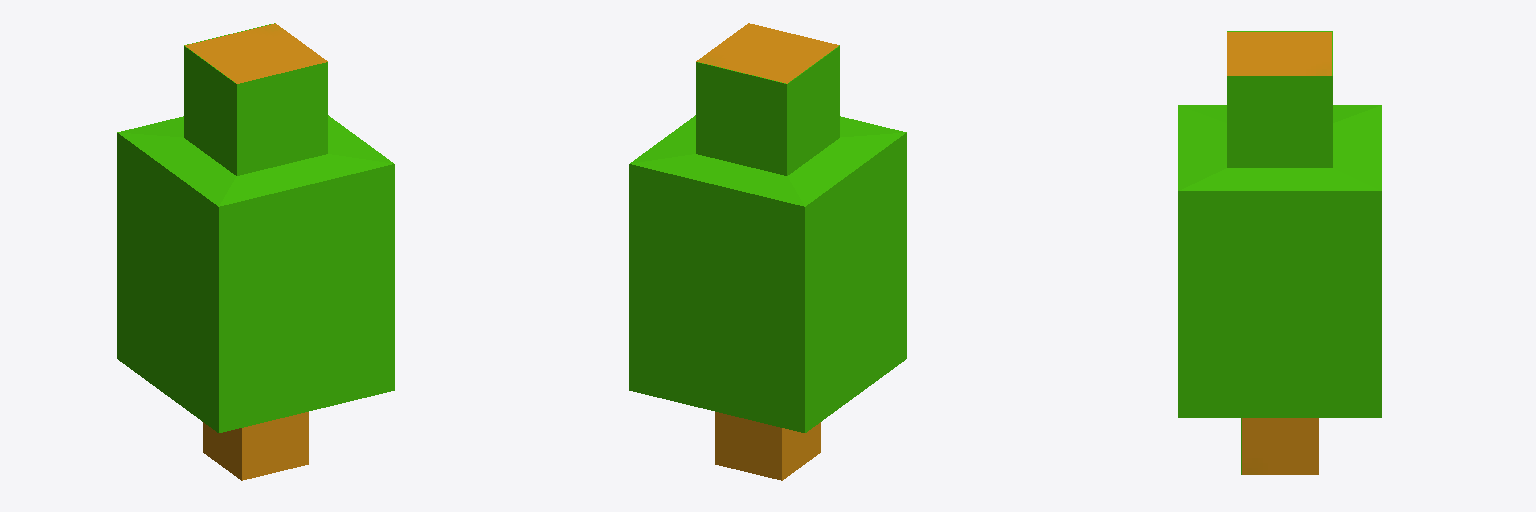
3 views of the same model, side by side, from view 1: azimuth 30°, elevation 25°; view 2: azimuth 150°, elevation 25°; view 3: azimuth 270°, elevation 25° (orthographic).
Visible parts, largest first — view 1: Cube; view 2: Cube; view 3: Cube.
Part boxes in pixels (bbox=[...]): Cube: bbox=[117, 23, 394, 480]; Cube: bbox=[629, 23, 906, 480]; Cube: bbox=[1178, 31, 1381, 474].
Bounding box in the file's own units: 0.0774 × 0.1702 × 0.0774.
Materials: 2 (1 with a texture image).